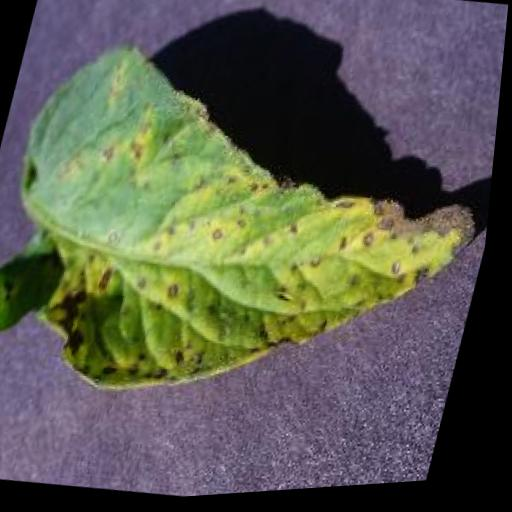Septoria: (0, 13, 509, 448)
